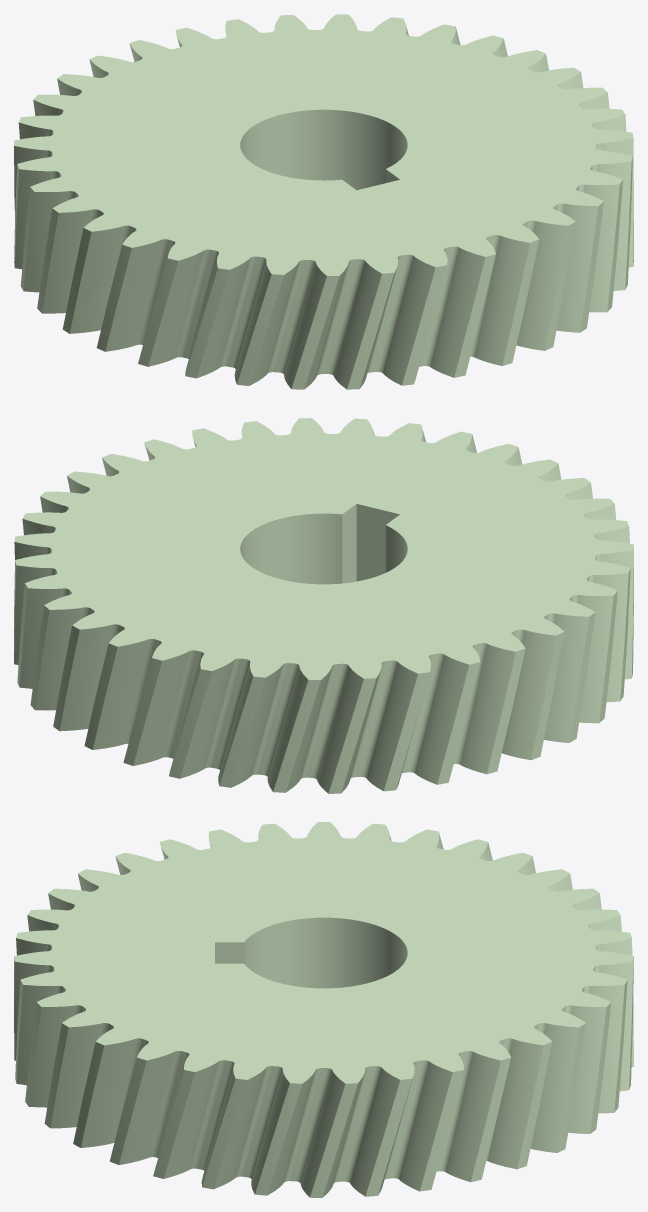
The model's file is EngrenagemCilindricaDentesRetos.glb.
The picture shows the model from 3 angles, top to bottom: view 1: azimuth 30°, elevation 25°; view 2: azimuth 150°, elevation 25°; view 3: azimuth 270°, elevation 25°; orthographic projection.
Parts seen in each view (by area): view 1: Spur gear (35 teeth); view 2: Spur gear (35 teeth); view 3: Spur gear (35 teeth).
Boxes of the visible parts, x1,y1,x2,y2 form: Spur gear (35 teeth): (14, 14, 633, 389); Spur gear (35 teeth): (14, 418, 633, 793); Spur gear (35 teeth): (14, 822, 633, 1197).
Size of the model in its own units: 0.074 by 0.015 by 0.074.
